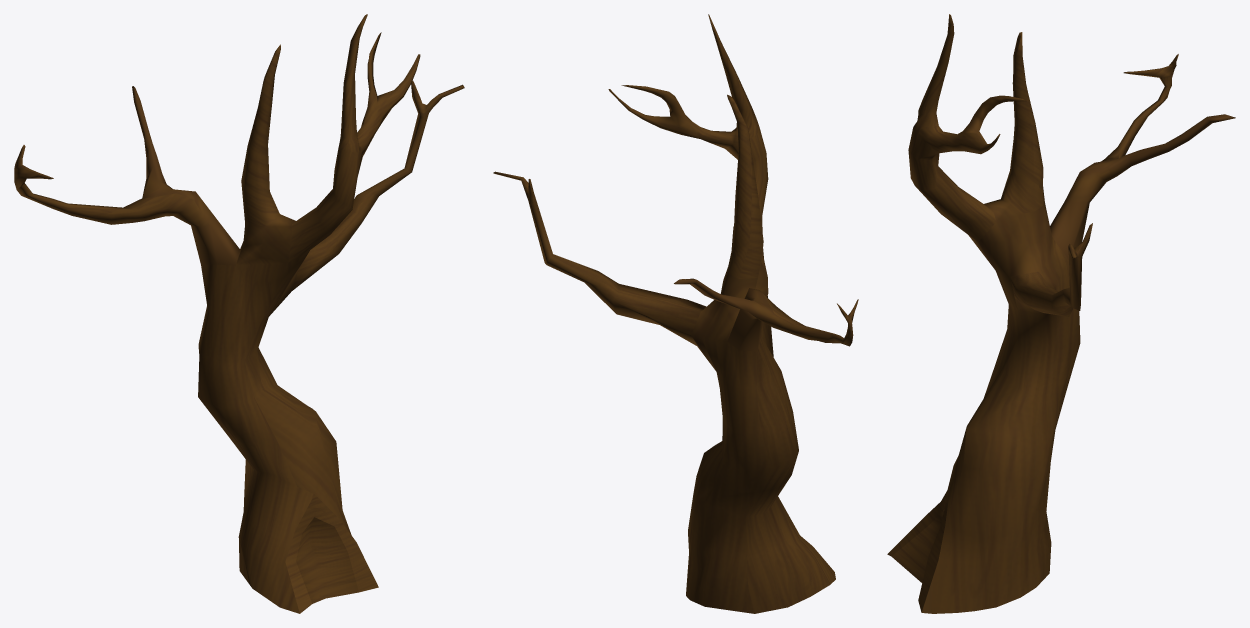
Rendered from Baum.fbx.
3 views of the same model, side by side, from view 1: azimuth 30°, elevation 25°; view 2: azimuth 150°, elevation 25°; view 3: azimuth 270°, elevation 25° (orthographic). The views are drawn at different scales.
Visible parts, largest first — view 1: Baum; view 2: Baum; view 3: Baum.
Boxes of the visible parts, <box> form: Baum: <box>14,14,464,613</box>; Baum: <box>493,14,858,613</box>; Baum: <box>887,14,1235,613</box>.
Size of the model in its own units: 389 by 519 by 273.
